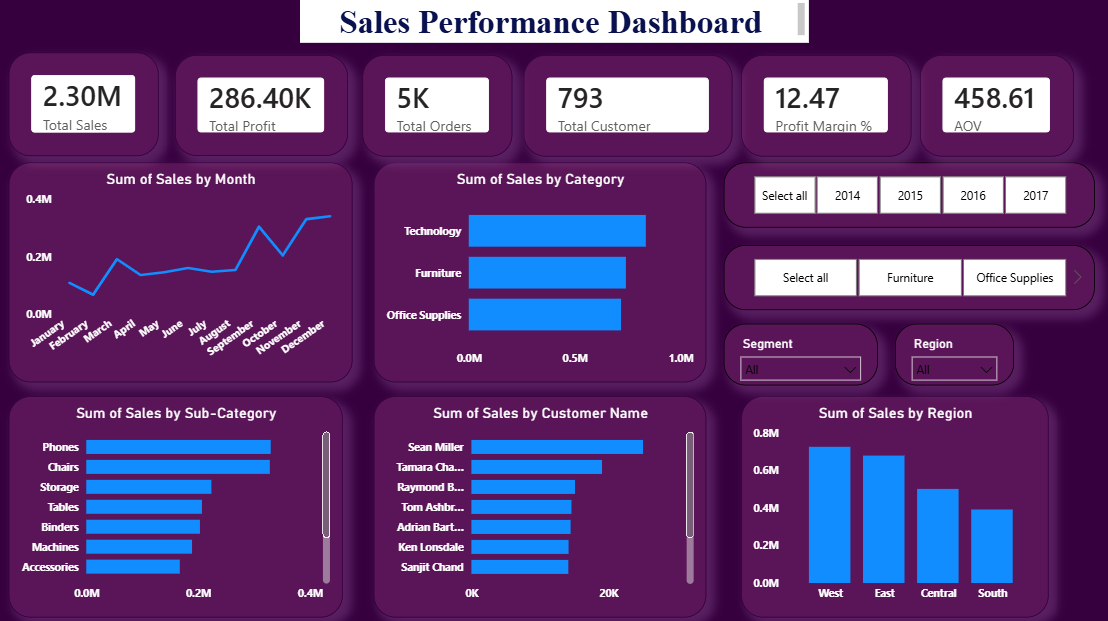

This screenshot's page, from the dashboard's own definition file:
{"tool":"powerbi","page":{"name":"Page 1","canvas":[1280,720],"ordinal":0},"visuals":[{"type":"cardVisual","fields":{"Data":["Sum(Table.Sales)"]},"box":[15.1,65.9,171.5,118],"z":0},{"type":"textbox","box":[348.6,4.3,581.4,50],"z":1000},{"type":"cardVisual","fields":{"Data":["Sum(Table.Profit)"]},"box":[205.8,68.6,197.6,115.3],"z":2000},{"type":"cardVisual","fields":{"Data":["Count(Table.Customer ID)"]},"box":[604.3,68.6,238.6,115.7],"z":4000},{"type":"lineChart","fields":{"Category":["Table.Ship Date.Variation.Date Hierarchy.Month"],"Y":["Sum(Table.Sales)"]},"box":[15.1,192.1,392.5,251.1],"z":5000},{"type":"barChart","fields":{"Y":["Sum(Table.Sales)"],"Category":["Table.Sub-Category"]},"box":[15.1,458.3,381.5,252.5],"z":6000},{"type":"columnChart","fields":{"Category":["Table.Region"],"Y":["Sum(Table.Sales)"]},"box":[852.9,458.6,351.4,252.9],"z":7000},{"type":"clusteredBarChart","fields":{"Y":["Sum(Table.Sales)"],"Category":["Table.Category"]},"box":[432.9,191.4,380,251.4],"z":8000},{"type":"clusteredBarChart","fields":{"Category":["Table.Customer Name"],"Y":["Sum(Table.Sales)"]},"box":[432.9,458.6,380,252.9],"z":9000},{"type":"slicer","fields":{"Values":["Table.Order Date.Variation.Date Hierarchy.Year"]},"box":[832.9,191.4,424.3,74.3],"z":10000},{"type":"slicer","fields":{"Values":["Table.Region"]},"box":[1028.6,375.7,135.7,70],"z":11000},{"type":"slicer","fields":{"Values":["Table.Segment"]},"box":[832.9,375.7,175.7,70],"z":12000},{"type":"slicer","fields":{"Values":["Table.Category"]},"box":[832.9,285.7,424.3,74.3],"z":13000},{"type":"cardVisual","fields":{"Data":["Table.Profit Margin"]},"box":[852.9,68.6,194.3,115.7],"z":13001},{"type":"cardVisual","fields":{"Data":["Table.Total Orders"]},"box":[420,68.6,171.4,115.7],"z":13002},{"type":"cardVisual","fields":{"Data":["Table.AOV"]},"box":[1057.1,68.6,175.7,115.7],"z":13003}]}

Visuals, with their boxes in screenshot pixels (x1, y1, x2, y2), scaled from the page's 1280x720 canvas onto the 1108x621 screenshot:
cardVisual - Sum(Table.Sales): [13,57,162,159]
textbox: [302,4,805,47]
cardVisual - Sum(Table.Profit): [178,59,349,159]
cardVisual - Count(Table.Customer ID): [523,59,730,159]
lineChart - Table.Ship Date.Variation.Date Hierarchy.Month x Sum(Table.Sales): [13,166,353,382]
barChart - Sum(Table.Sales) x Table.Sub-Category: [13,395,343,613]
columnChart - Table.Region x Sum(Table.Sales): [738,396,1042,614]
clusteredBarChart - Sum(Table.Sales) x Table.Category: [375,165,704,382]
clusteredBarChart - Table.Customer Name x Sum(Table.Sales): [375,396,704,614]
slicer - Table.Order Date.Variation.Date Hierarchy.Year: [721,165,1088,229]
slicer - Table.Region: [890,324,1008,384]
slicer - Table.Segment: [721,324,873,384]
slicer - Table.Category: [721,246,1088,310]
cardVisual - Table.Profit Margin: [738,59,906,159]
cardVisual - Table.Total Orders: [364,59,512,159]
cardVisual - Table.AOV: [915,59,1067,159]
